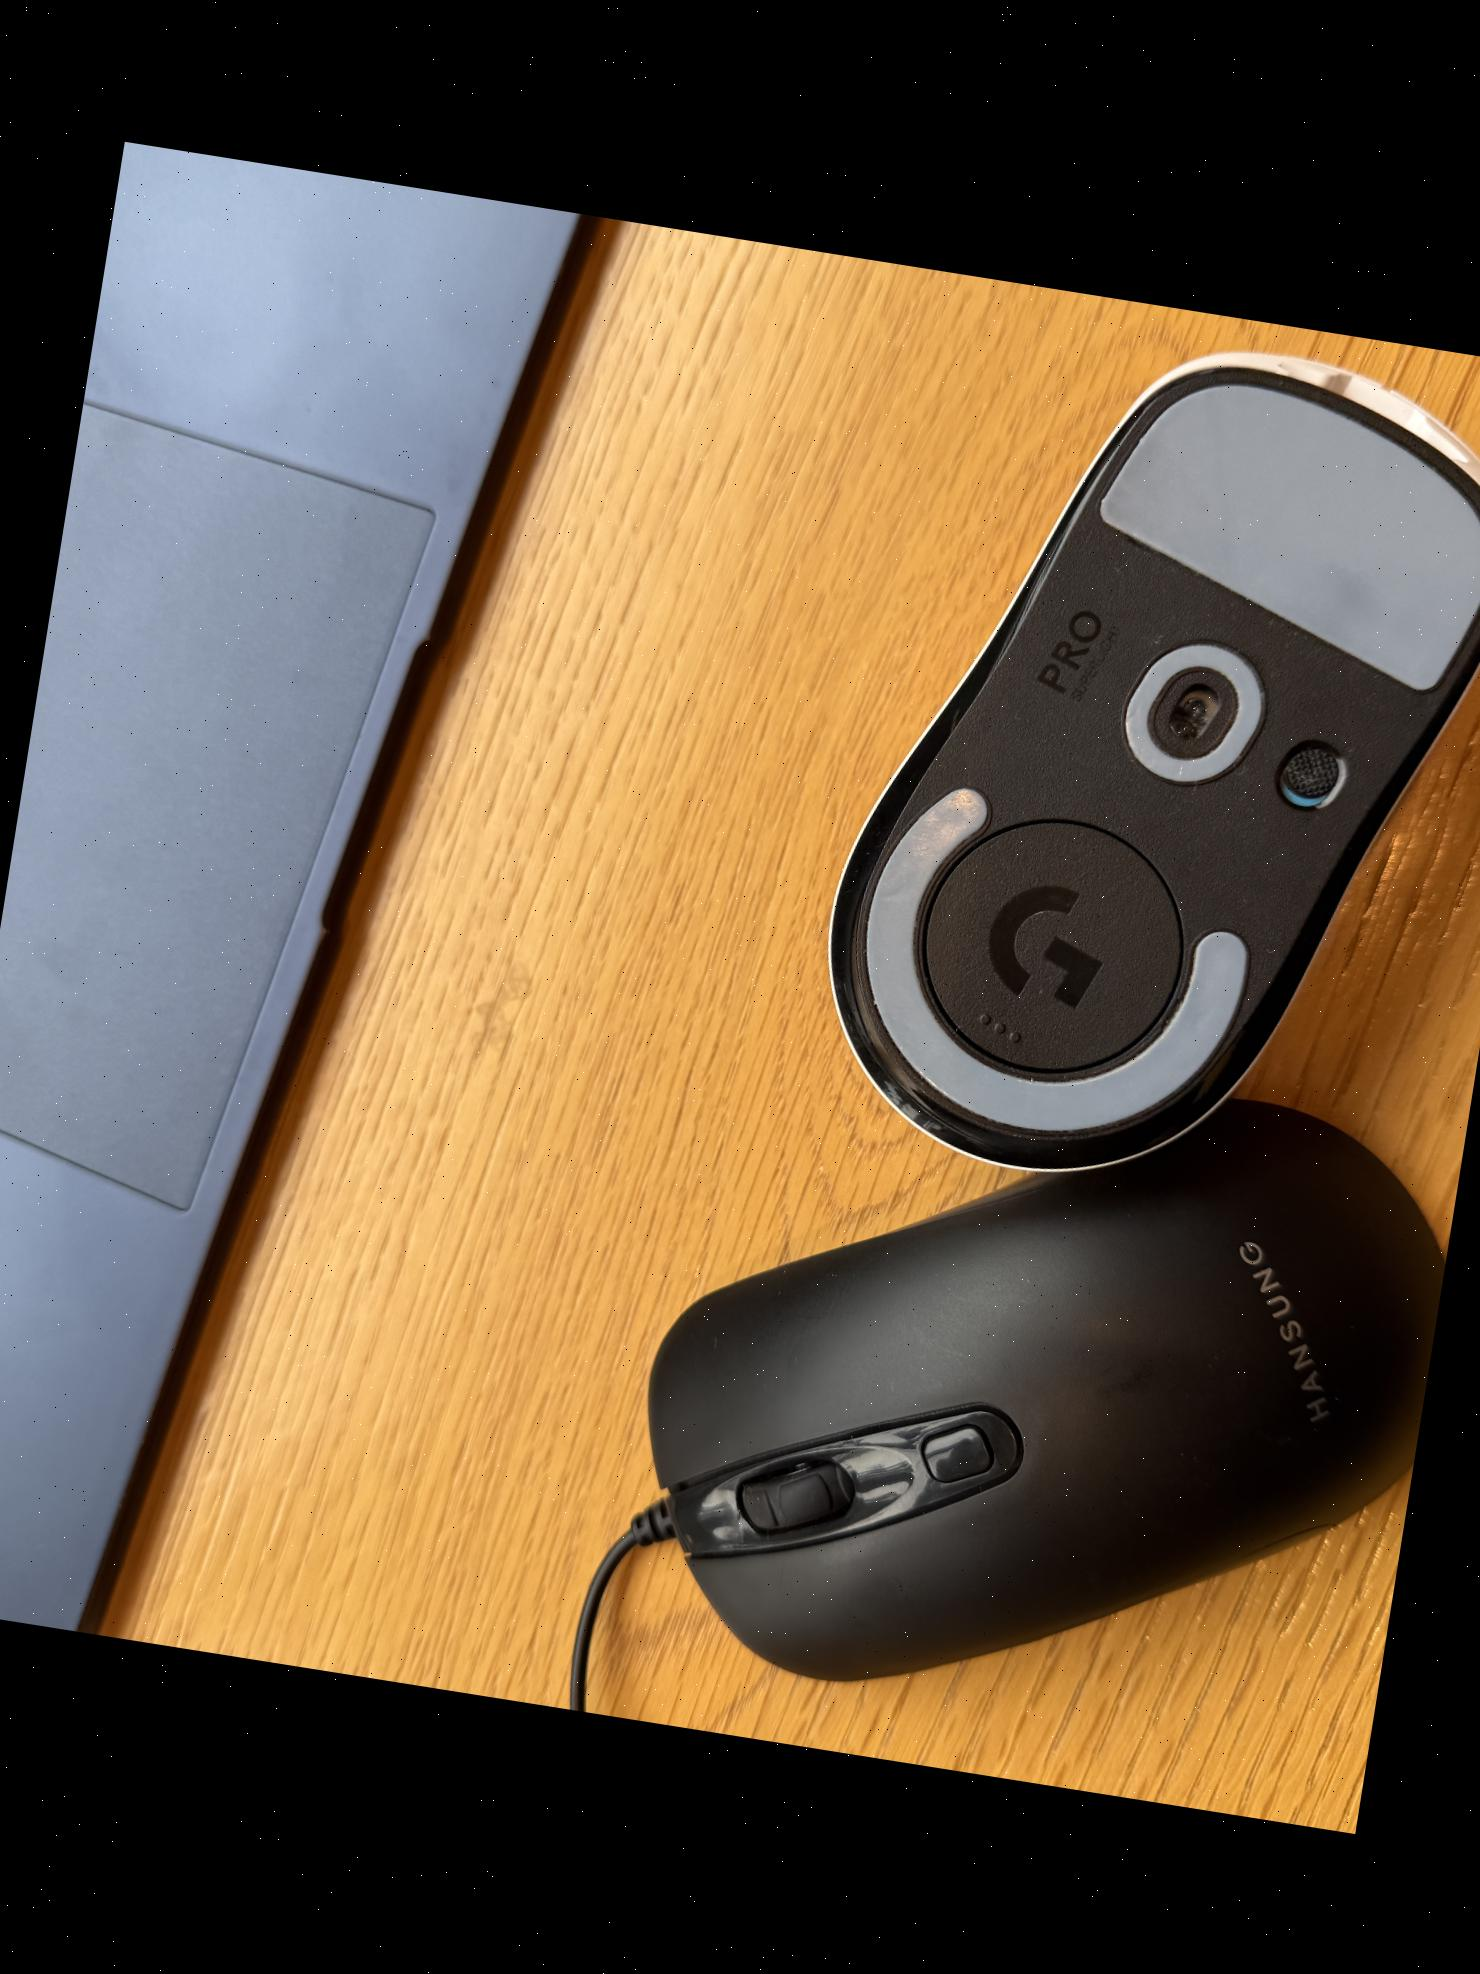back: (782, 288, 1480, 1222)
front: (597, 1003, 1468, 1766)
